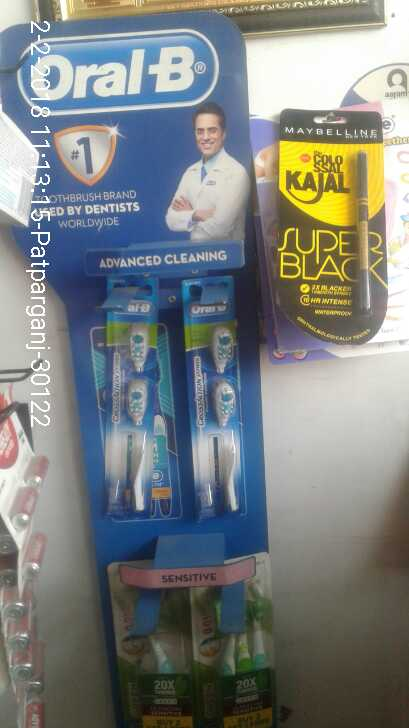oralb: (90, 309, 171, 525), (185, 309, 248, 511)
